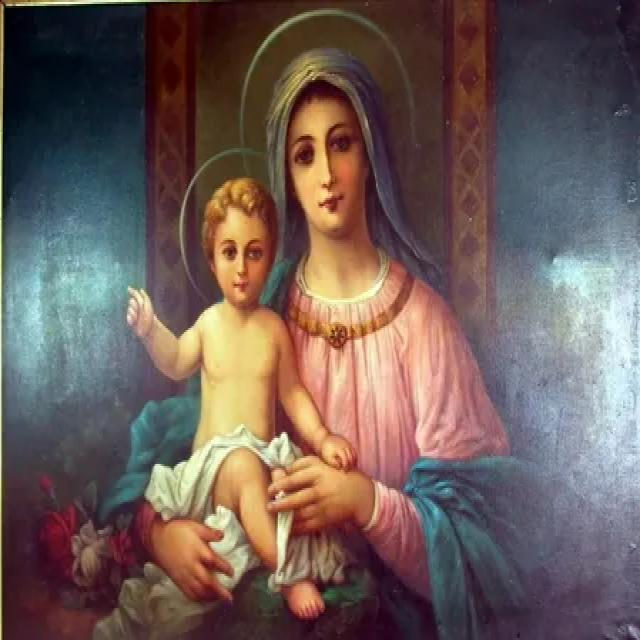mother of god: (101, 47, 546, 640)
